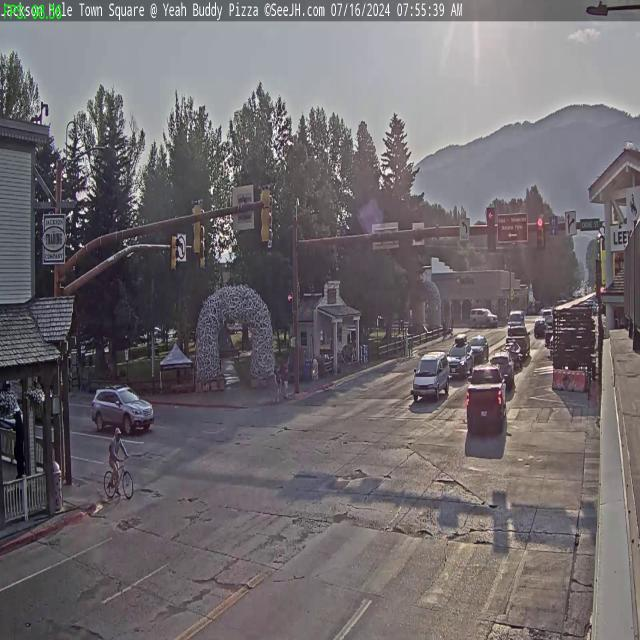bike: (101, 458, 134, 501)
person: (108, 424, 125, 489), (278, 352, 288, 404)
pickup: (466, 367, 507, 426)
sedan: (468, 333, 489, 359)
suv: (91, 384, 155, 436), (448, 341, 473, 378), (491, 350, 514, 387), (470, 306, 498, 329)
traffic light: (259, 184, 272, 245), (191, 199, 203, 257), (486, 208, 497, 254), (169, 235, 178, 272), (536, 215, 545, 248)
van: (412, 349, 450, 402)
